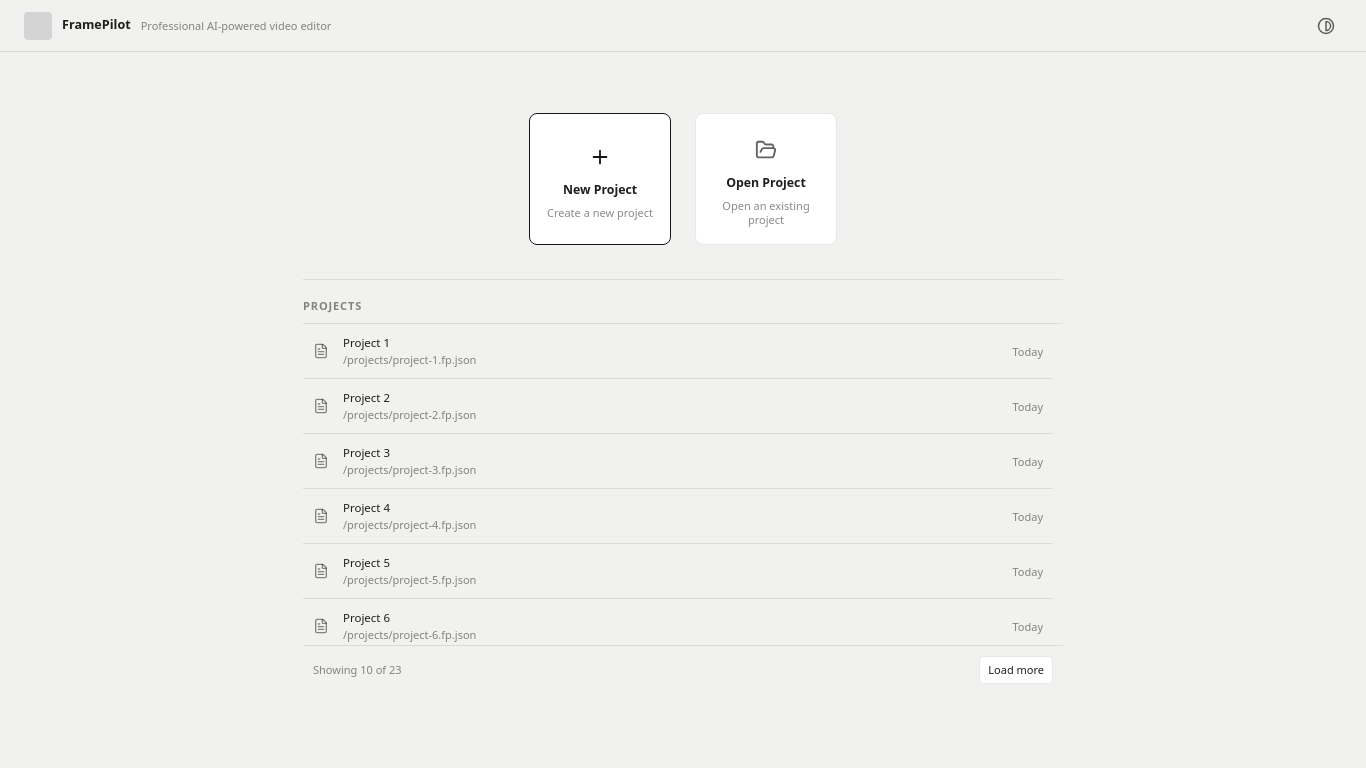
Test case: HomeScreen project list (desktop) › appends the next 10 on Load more and hides it once every project is shown
The image size is (1366, 768).
Click the button "Load more": (1016, 670) [979, 656, 1053, 684]
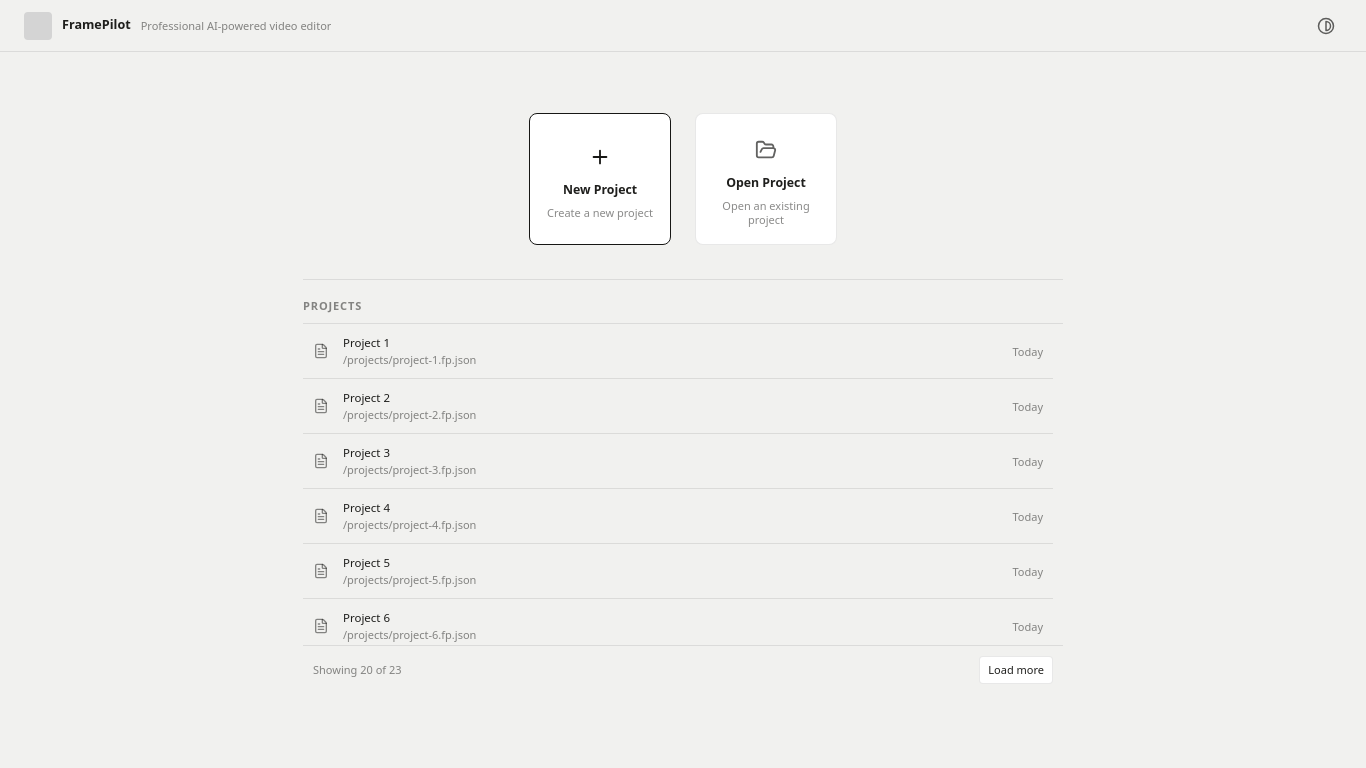
Expected: the text "Project 1" is shown, [343, 335, 390, 350]
Now the text "Showing 20 of 23" is shown, box [313, 662, 402, 678]
Click the button "Load more": (1016, 670) [979, 656, 1053, 684]
(page scrolled)
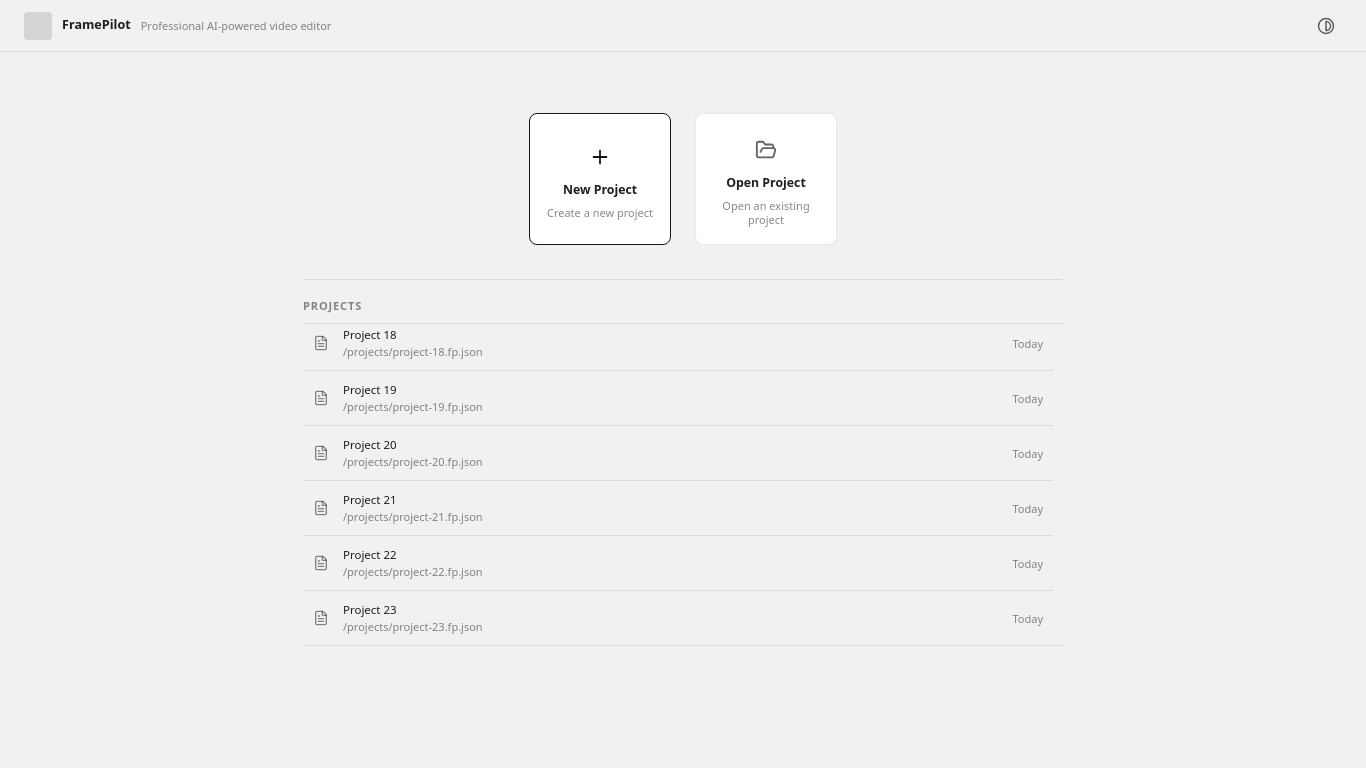
Now the text "Project 23" is shown, box [343, 602, 397, 617]
Now the button "Load more" is gone
Now the text "Showing" is gone
